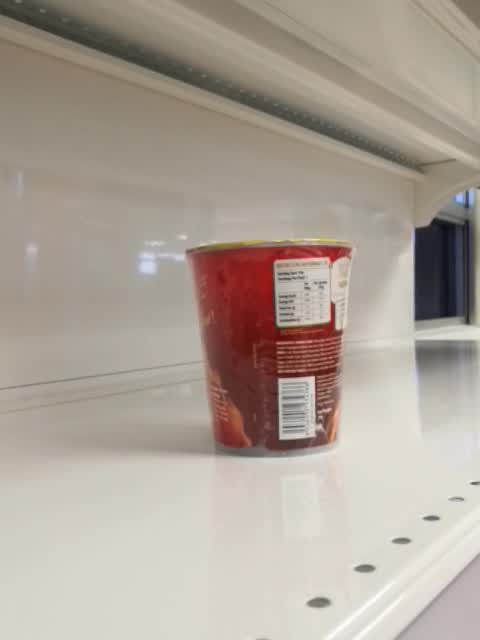maggi: (185, 238, 355, 459)
